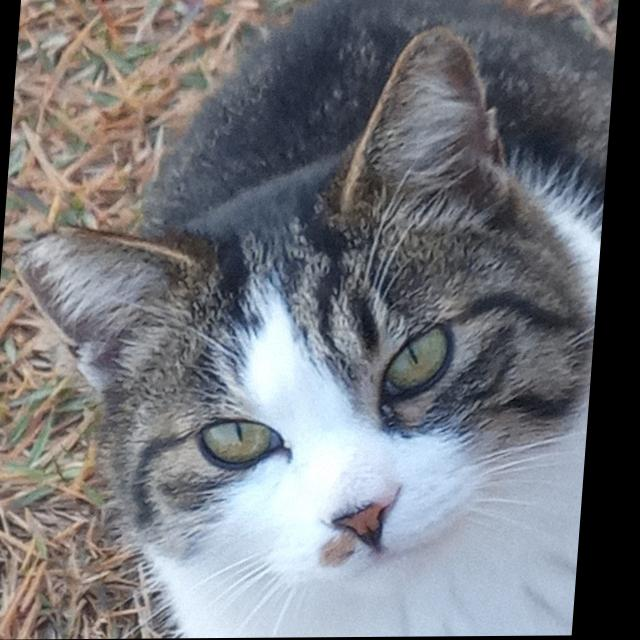animals: (0, 28, 617, 598)
